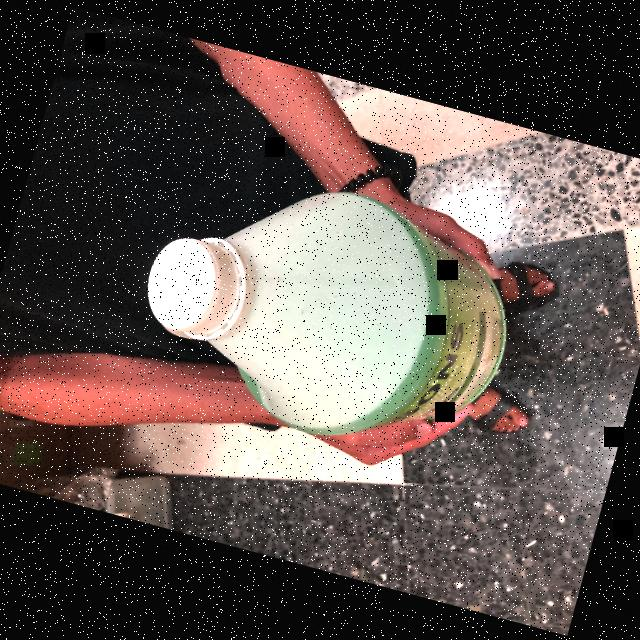chemical_plastic_gallon: (114, 145, 531, 478)
